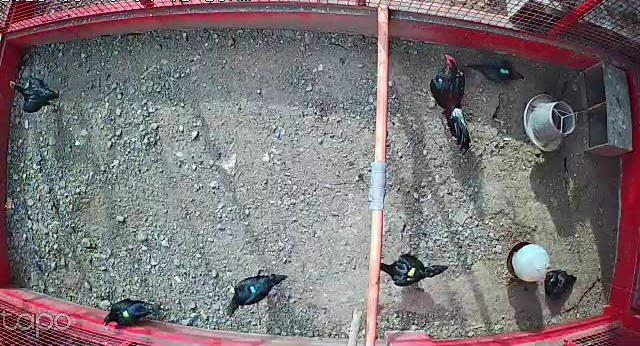Chicken: (224, 262, 289, 318), (376, 250, 453, 290), (100, 292, 161, 333), (8, 74, 68, 114), (465, 56, 527, 85), (539, 263, 579, 299)
Rooster: (428, 49, 474, 152)
Saddle_Color_Blue: (249, 285, 256, 294)
Saddle_Color_Yellow: (407, 265, 417, 277)
